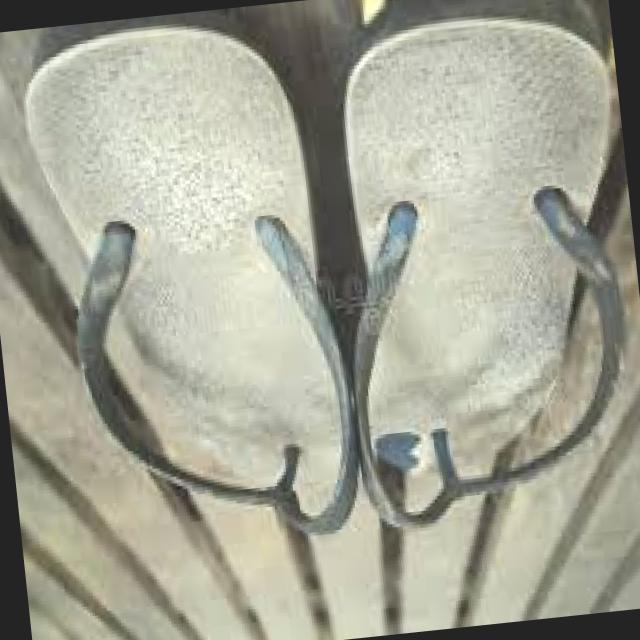giay: (25, 20, 360, 533), (348, 0, 623, 526)
